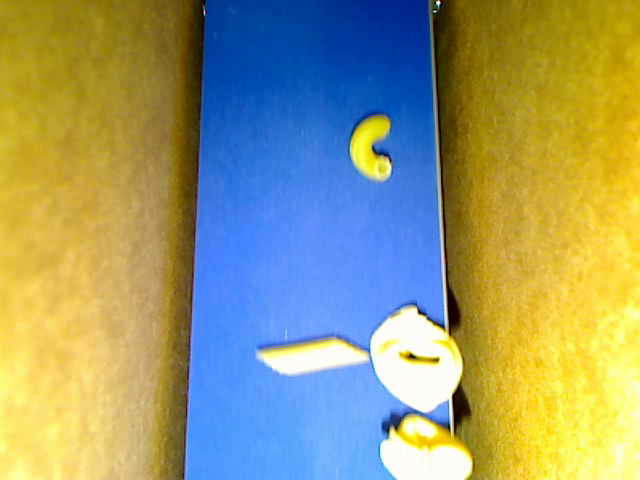elbow: (349, 114, 393, 181)
penne: (254, 335, 371, 376)
tortellini: (370, 304, 461, 412), (379, 411, 473, 479)
